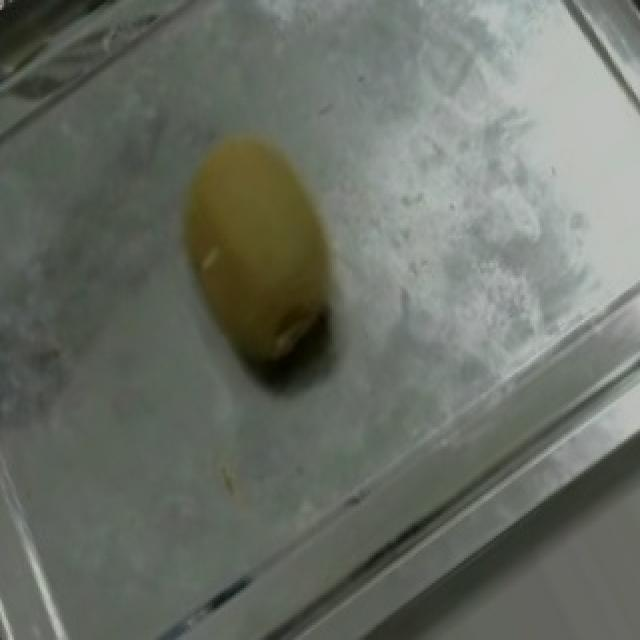Fruit: (136, 99, 376, 407)
